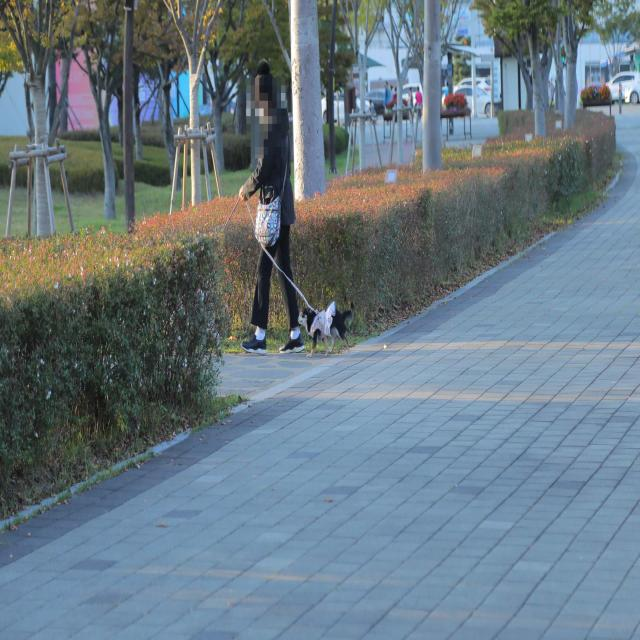Leashed_Dog: (239, 184, 353, 358)
